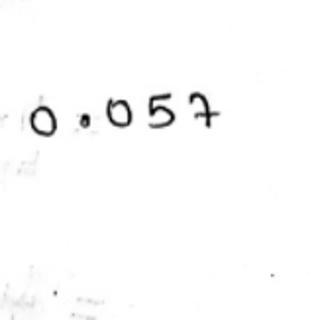.: (73, 108, 96, 129)
0: (29, 101, 61, 141), (103, 95, 133, 128)
5: (146, 94, 178, 129)
7: (185, 85, 225, 130)
